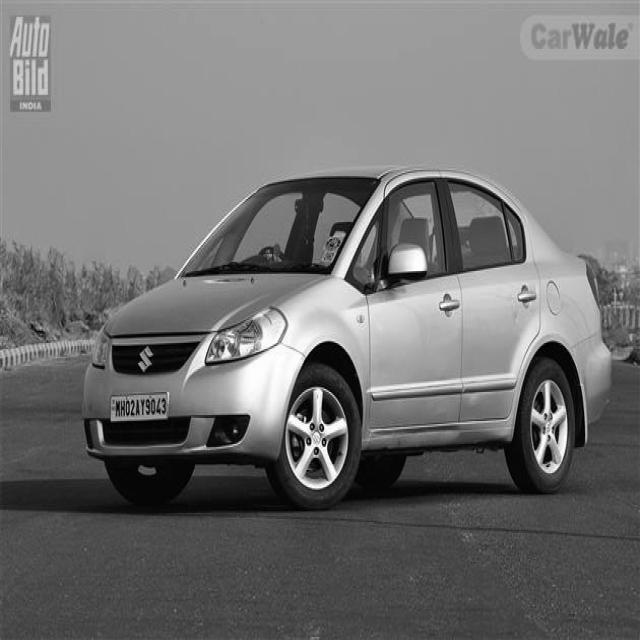car: (81, 164, 613, 510)
plat_license: (108, 392, 168, 421)
